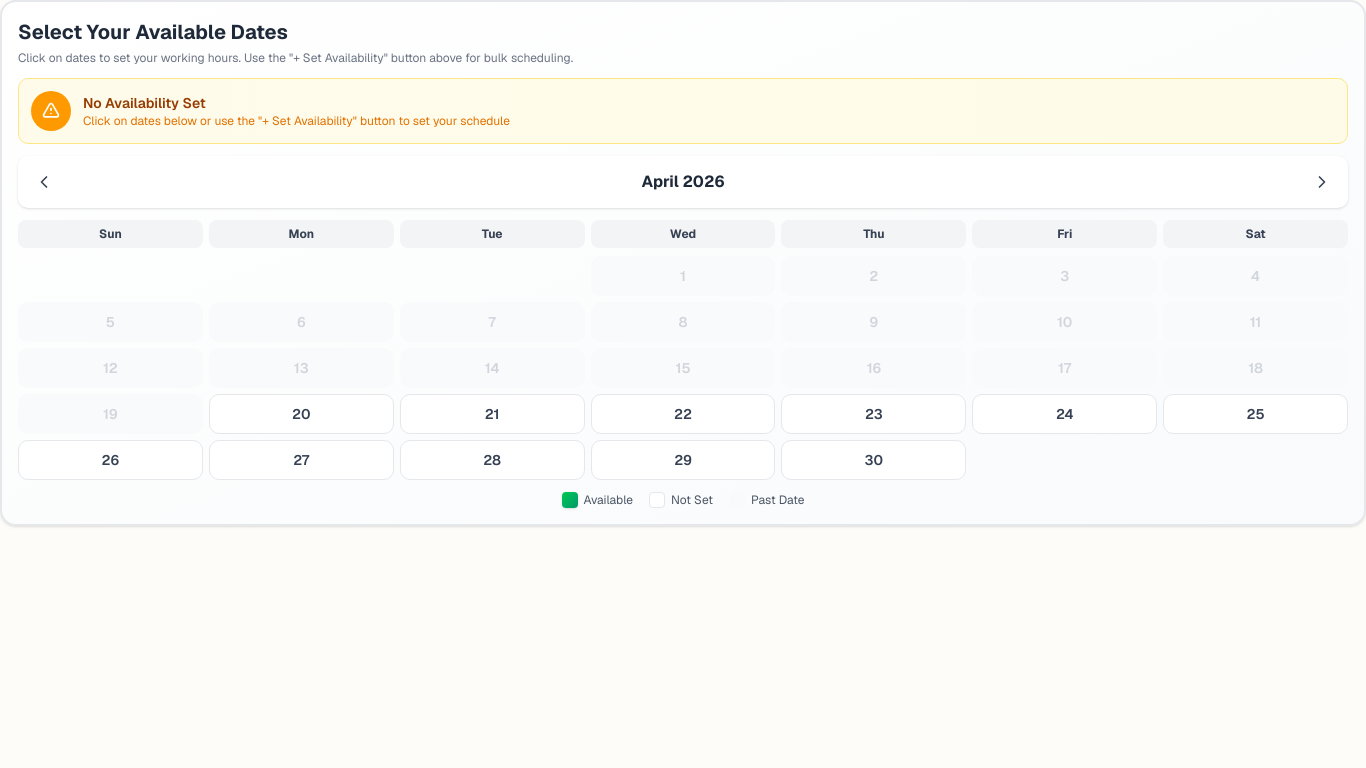
Test case: Calendar Date Click → Modal Integration › clicking calendar date opens modal with that date selected
// Click a future date
Click the button "25".
click(1256, 414)  # box [1163,394,1348,434]
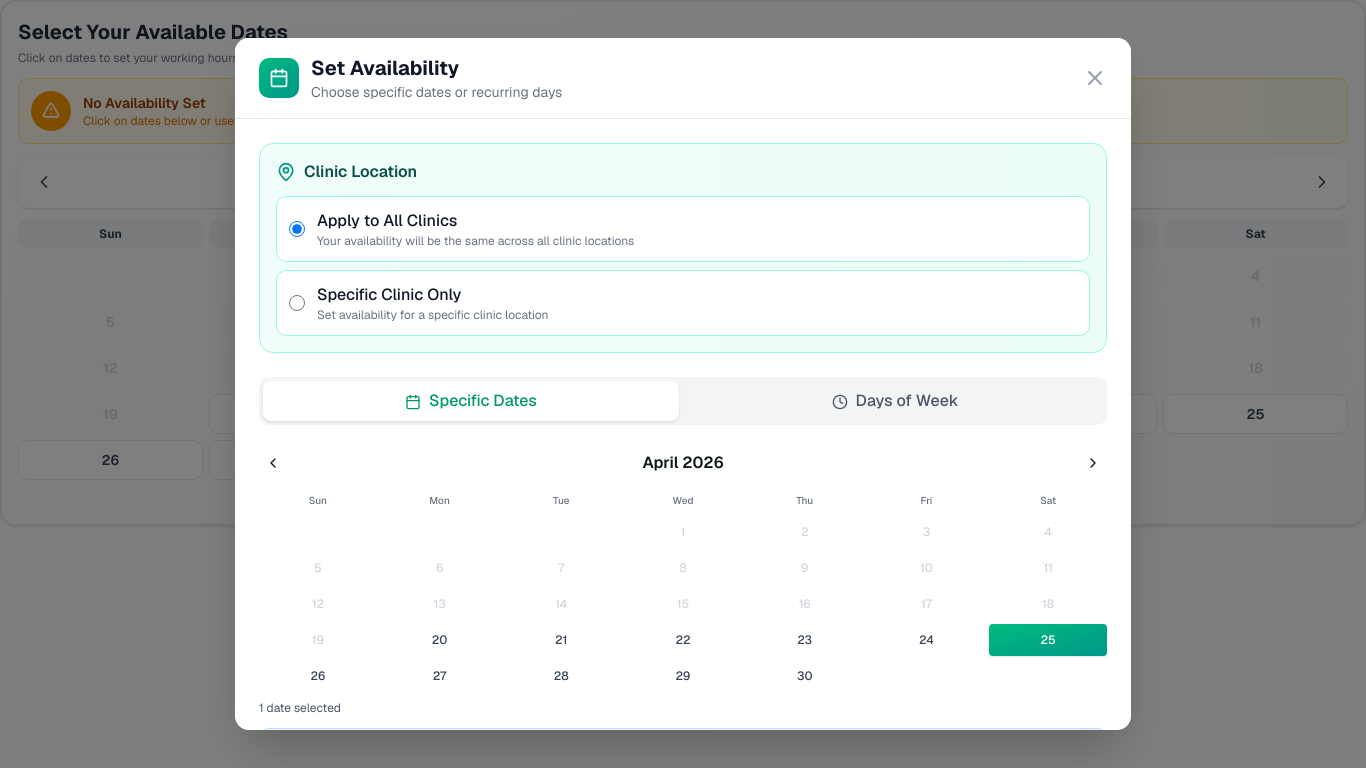
Expected: the heading "Set Availability" is shown, [311,55,459,81]
Expected: the text "1 date selected" is shown, [259,700,341,716]
